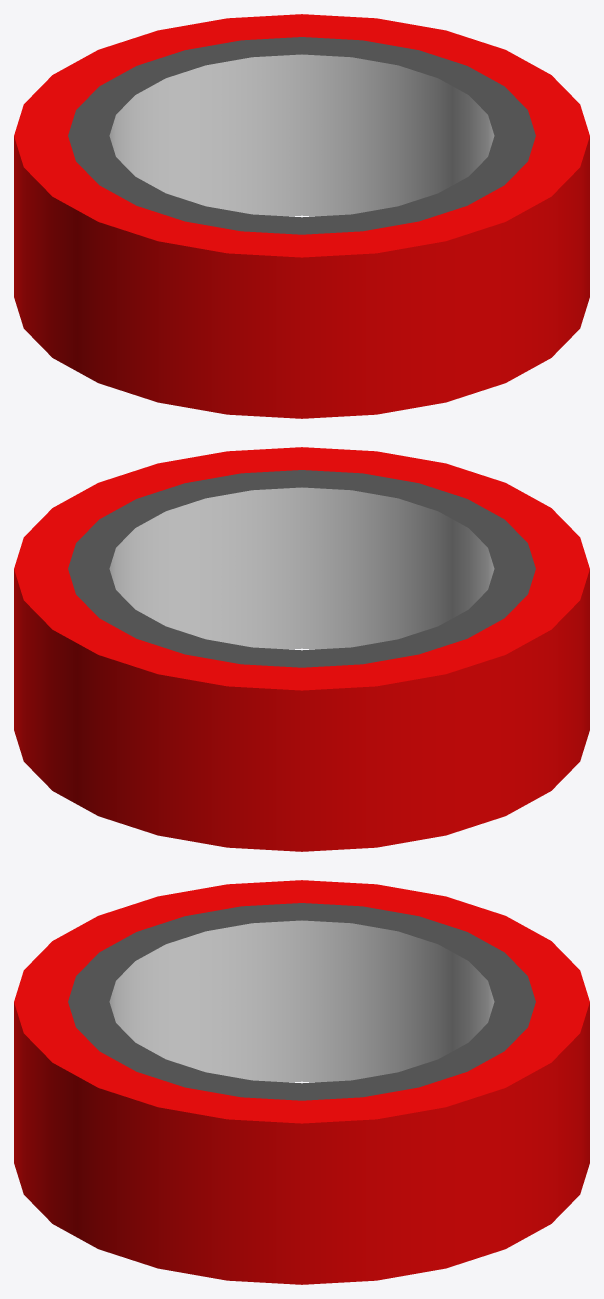
The model's file is tape.fbx.
3 renders of one model, top to bottom at view 1: azimuth 30°, elevation 25°; view 2: azimuth 150°, elevation 25°; view 3: azimuth 270°, elevation 25°, orthographic.
Visible parts, largest first — view 1: Layer0_001; view 2: Layer0_001; view 3: Layer0_001.
Part boxes in pixels (<box>): Layer0_001: <box>14,14,589,418</box>; Layer0_001: <box>14,447,589,851</box>; Layer0_001: <box>14,880,589,1284</box>.
Bounding box in the file's own units: 4.85 × 1.5 × 4.85.
